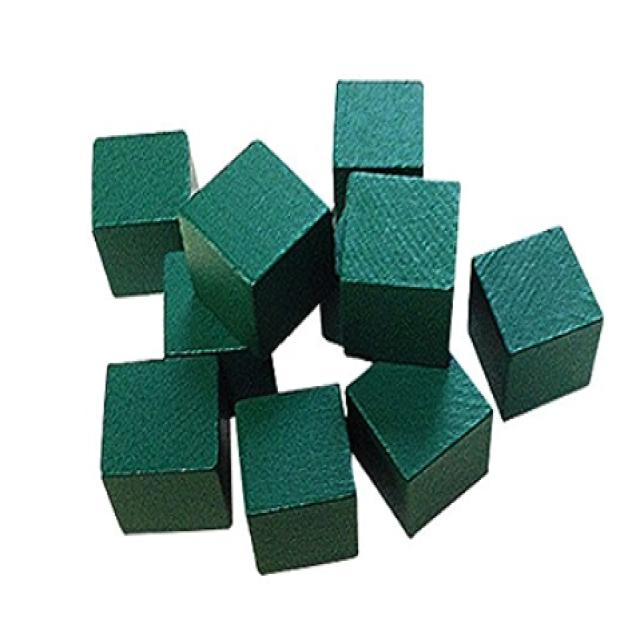green cube: (178, 138, 337, 362), (346, 349, 495, 540), (467, 224, 605, 424), (235, 384, 359, 574), (343, 172, 462, 366), (103, 359, 233, 535), (164, 253, 279, 417), (93, 129, 200, 298), (334, 80, 424, 224), (319, 205, 346, 349)
